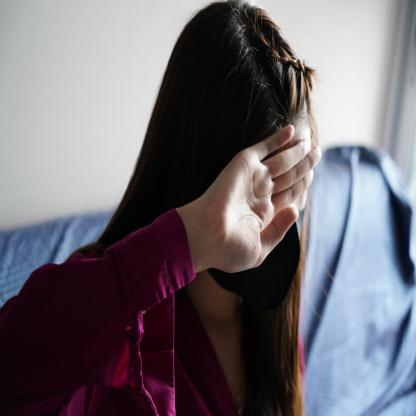Sick: (154, 117, 326, 276)
